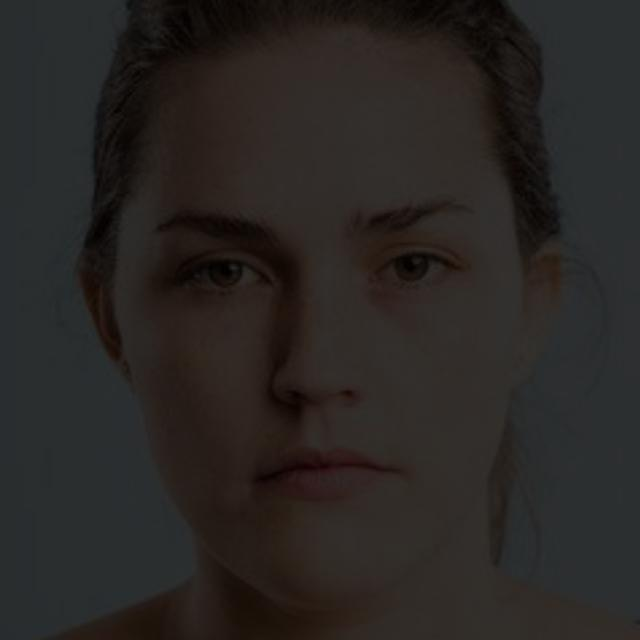Natural: (117, 97, 509, 580)
